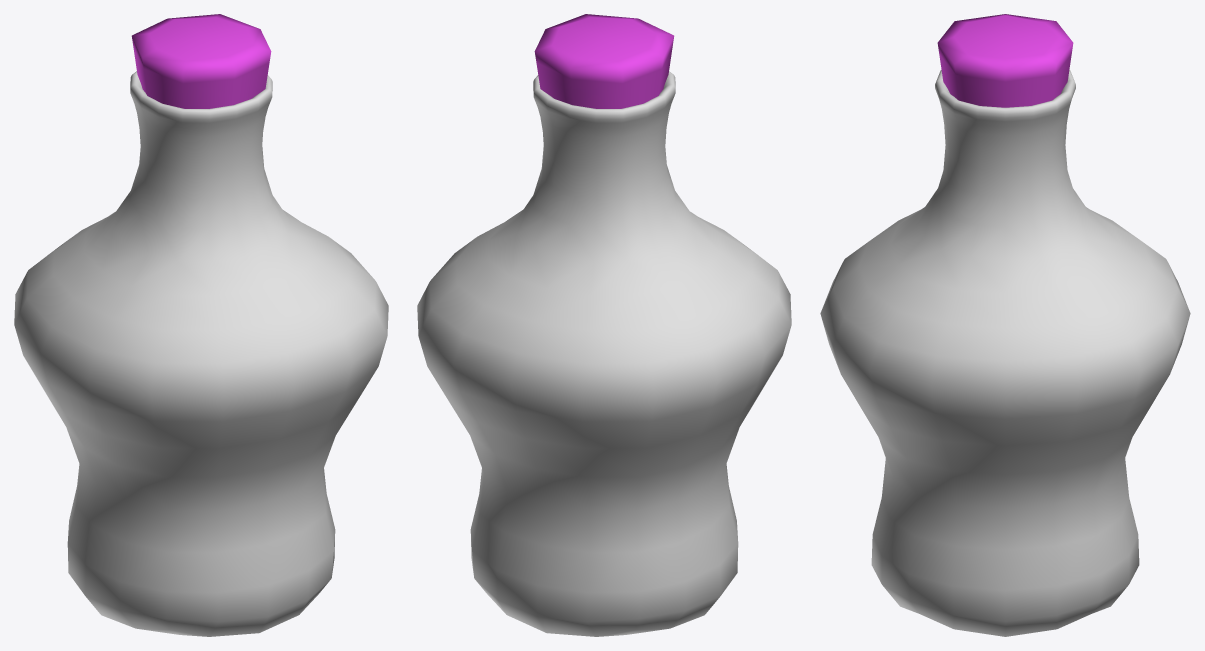
The model's file is potion_new.fbx.
3 renders of one model, left to right at view 1: azimuth 30°, elevation 25°; view 2: azimuth 150°, elevation 25°; view 3: azimuth 270°, elevation 25°, orthographic.
Parts seen in each view (by area): view 1: Potion3_Filled; view 2: Potion3_Filled; view 3: Potion3_Filled.
Boxes of the visible parts, bbox=[...] form: Potion3_Filled: bbox=[14, 14, 388, 636]; Potion3_Filled: bbox=[417, 14, 791, 636]; Potion3_Filled: bbox=[820, 14, 1190, 636].
Size of the model in its own units: 71.87 by 122 by 71.87.
